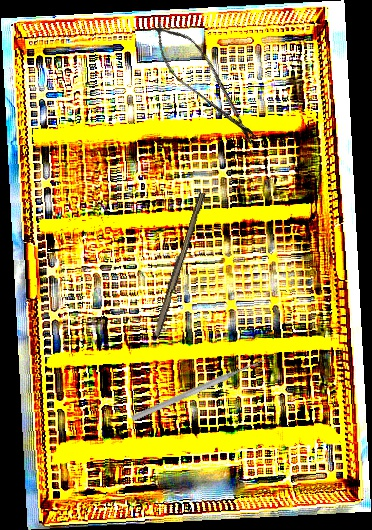Micro Scissor: (139, 11, 272, 155)
Pusher: (130, 355, 267, 424)
Scalpel Handle: (151, 190, 206, 339)
